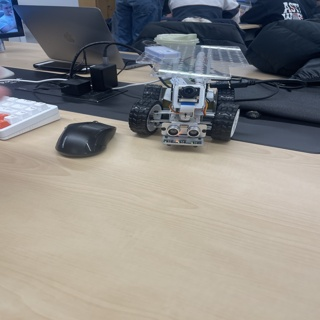vehicle: (129, 38, 247, 145)
